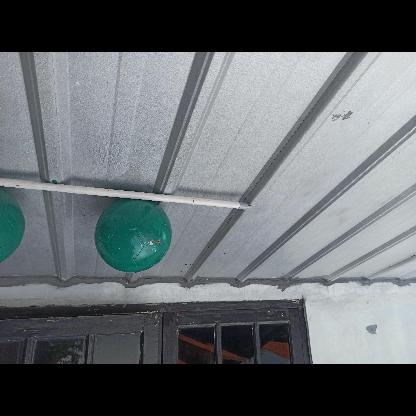green_ball: (96, 196, 174, 272)
